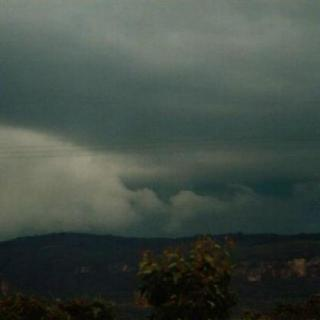Stratus: (0, 0, 320, 234)
